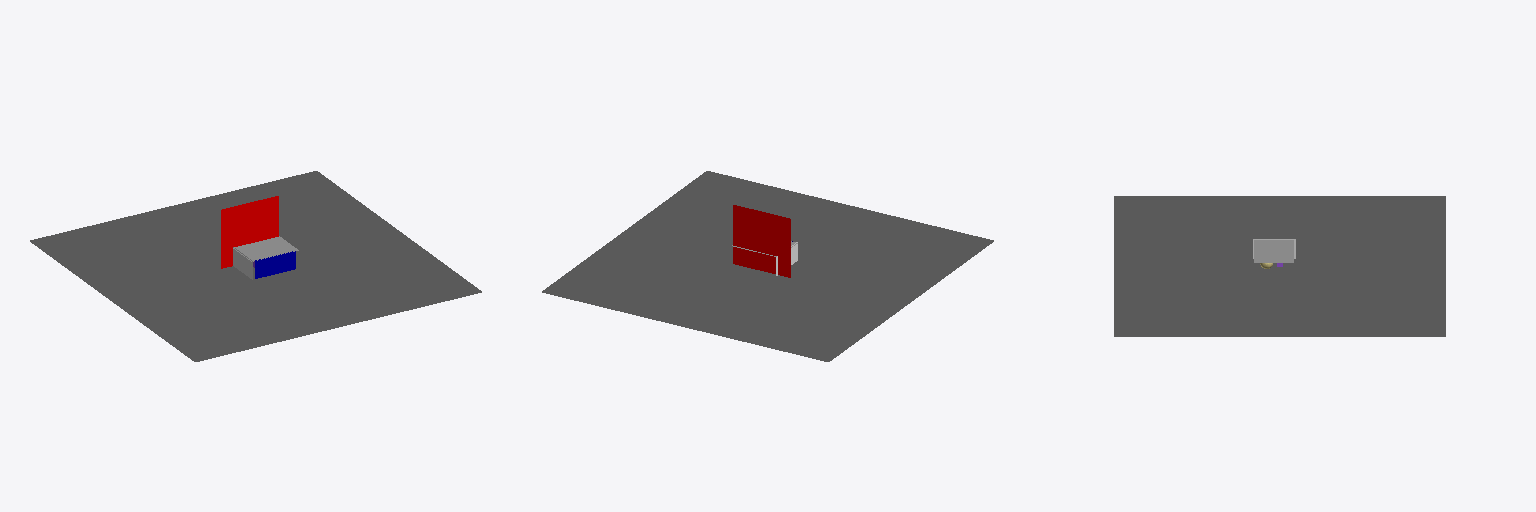
File: cbox.obj
The picture shows the model from 3 angles: view 1: azimuth 30°, elevation 25°; view 2: azimuth 150°, elevation 25°; view 3: azimuth 270°, elevation 25°; orthographic projection.
Parts seen in each view (by area): view 1: mesh2, mesh7, mesh4, mesh6; view 2: mesh2, mesh7; view 3: mesh2, mesh4.
Part boxes in pixels (bbox=[...]): mesh2: bbox=[30, 171, 481, 361]; mesh7: bbox=[221, 196, 278, 268]; mesh4: bbox=[233, 236, 298, 261]; mesh6: bbox=[255, 251, 295, 278]; mesh2: bbox=[542, 171, 993, 361]; mesh7: bbox=[733, 205, 790, 277]; mesh2: bbox=[1114, 196, 1445, 336]; mesh4: bbox=[1254, 240, 1293, 262].
Bounding box in the file's own units: 50 × 16.23 × 50.